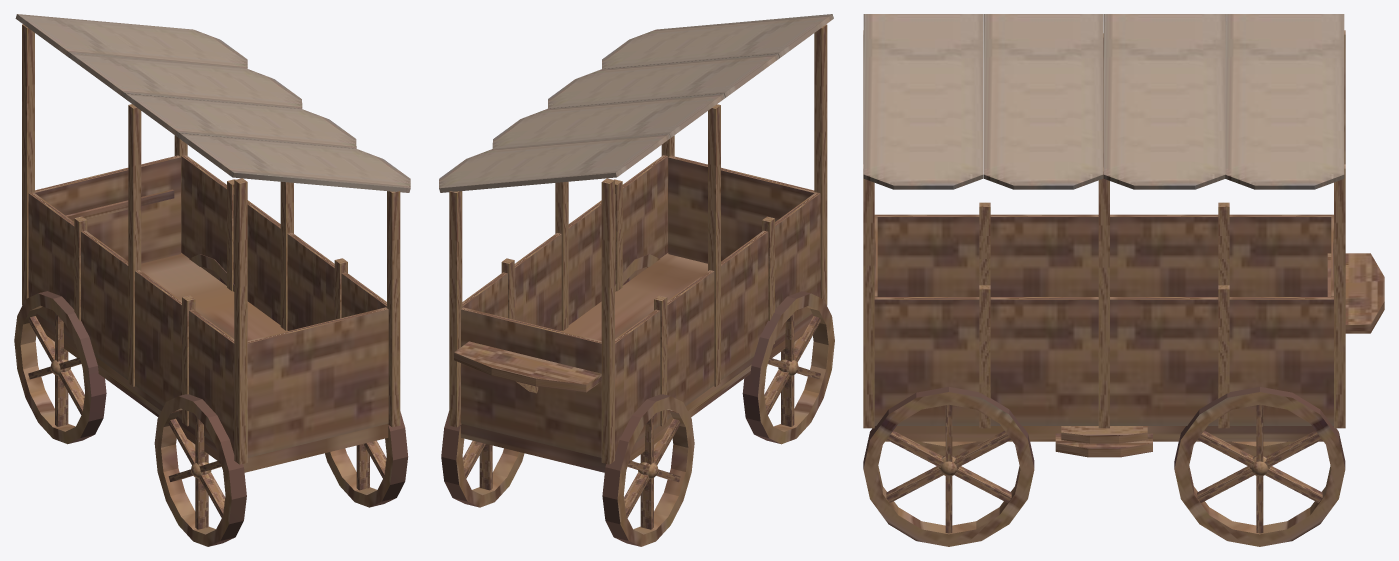
The model's file is carriage.fbx.
The picture shows the model from 3 angles, left to right: view 1: azimuth 30°, elevation 25°; view 2: azimuth 150°, elevation 25°; view 3: azimuth 270°, elevation 25°; orthographic projection. The views are drawn at different scales.
Visible parts, largest first — view 1: Cube.022, Circle.002, Circle.003, Circle.001; view 2: Cube.022, Circle.003, Circle.002, Circle.004; view 3: Cube.022, Circle.001, Circle.004.
Part boxes in pixels (bbox=[...]): Cube.022: bbox=[15, 14, 410, 472]; Circle.002: bbox=[154, 394, 246, 546]; Circle.003: bbox=[14, 291, 106, 444]; Circle.001: bbox=[325, 411, 408, 507]; Cube.022: bbox=[439, 14, 833, 472]; Circle.003: bbox=[602, 394, 694, 546]; Circle.002: bbox=[742, 291, 834, 444]; Circle.004: bbox=[441, 411, 524, 507]; Cube.022: bbox=[863, 14, 1384, 457]; Circle.001: bbox=[863, 387, 1034, 546]; Circle.004: bbox=[1174, 386, 1345, 546].
Bounding box in the file's own units: 250 × 489 × 527.
Materials: 2 (2 with a texture image).
